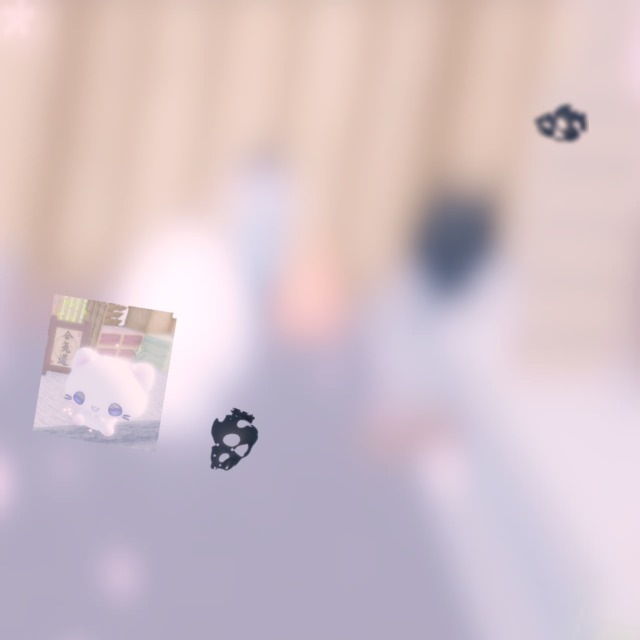urso_branco: (32, 294, 178, 452)
urso_preto: (192, 401, 267, 485), (529, 99, 589, 148)
